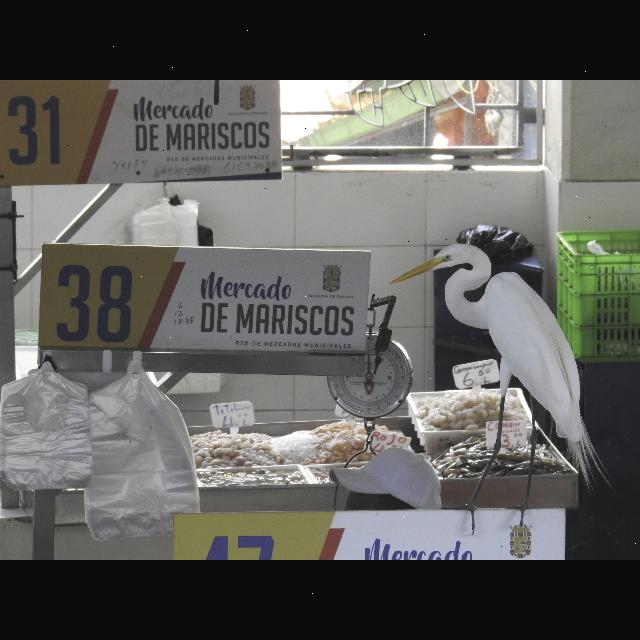egret: (388, 237, 612, 517)
